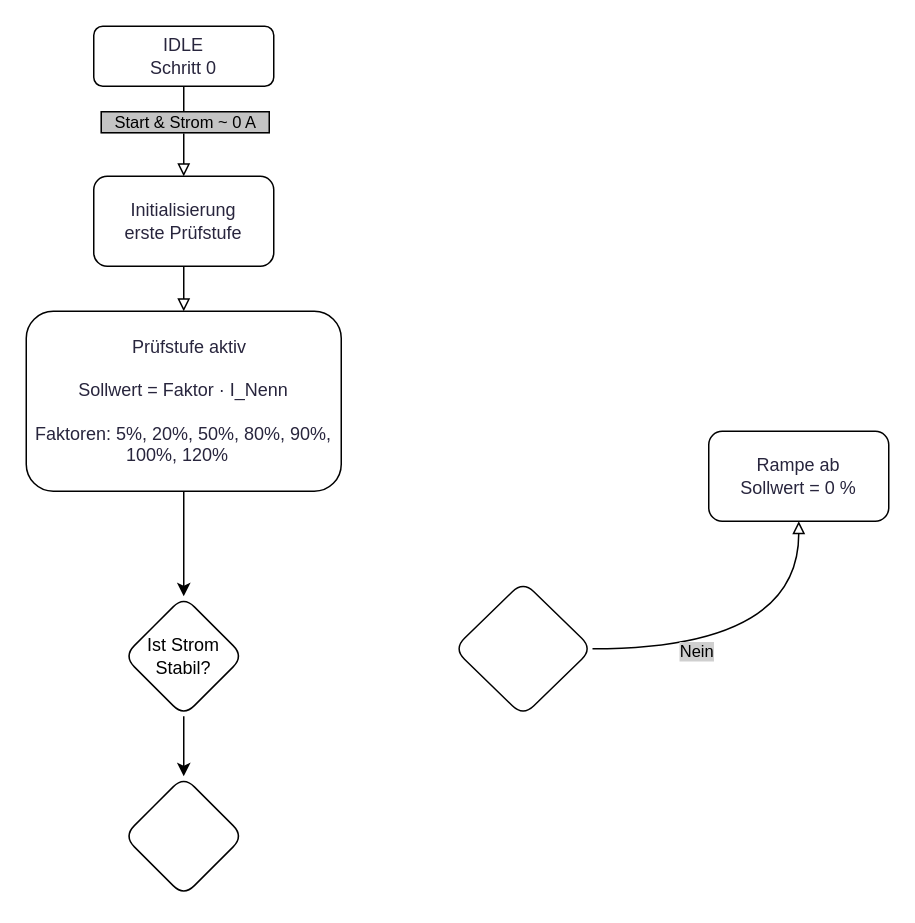
Some shapes in this 915 by 923 pixel diagram are drawn without their labels. The box of each missing label's shape, as (x1, y1, x2, y2) in pixels:
Ist Messzeit erteicht?: (122, 775, 244, 896)
Weitere Prüfstufen?: (452, 580, 592, 716)
